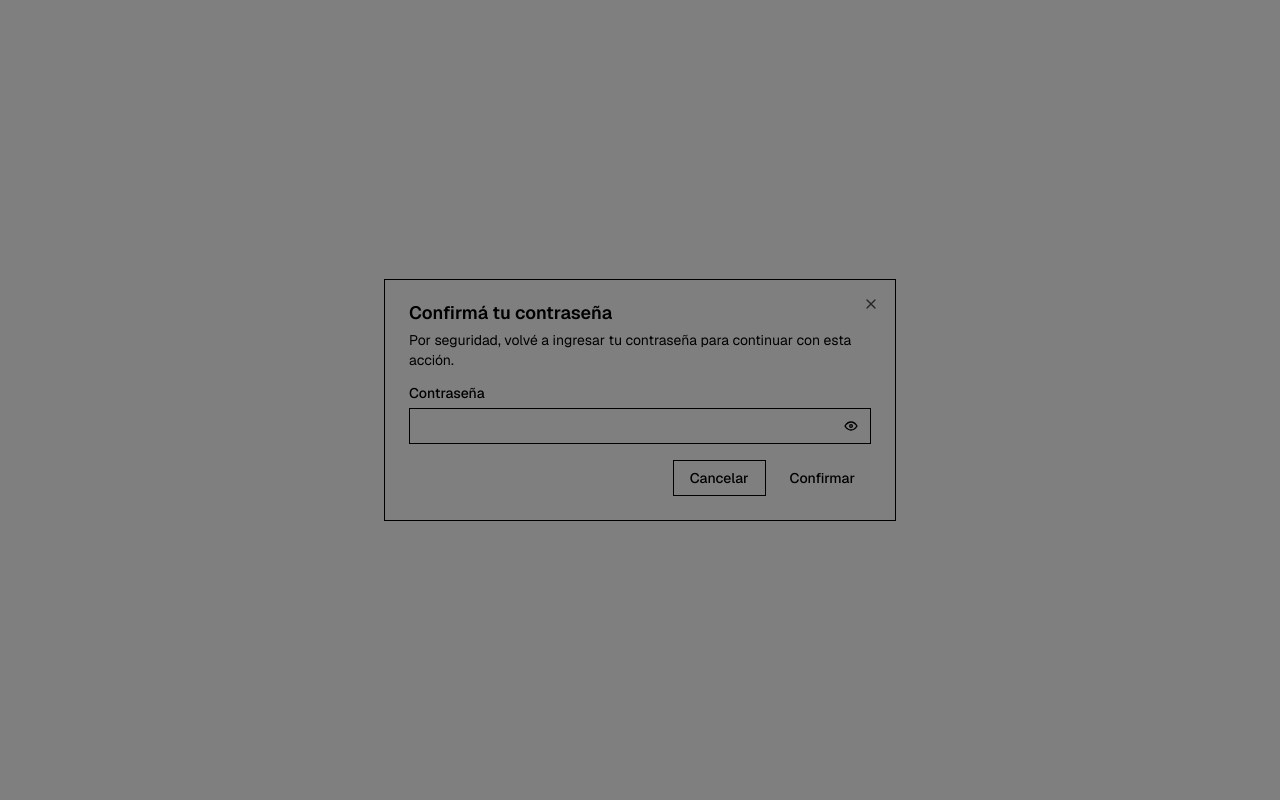
Test case: password visibility (#281) › reveals the step-up password and keeps what was typed
Type "secreto-123" into the password field labelled "Contraseña" at (640, 426), box [409,408,871,444]
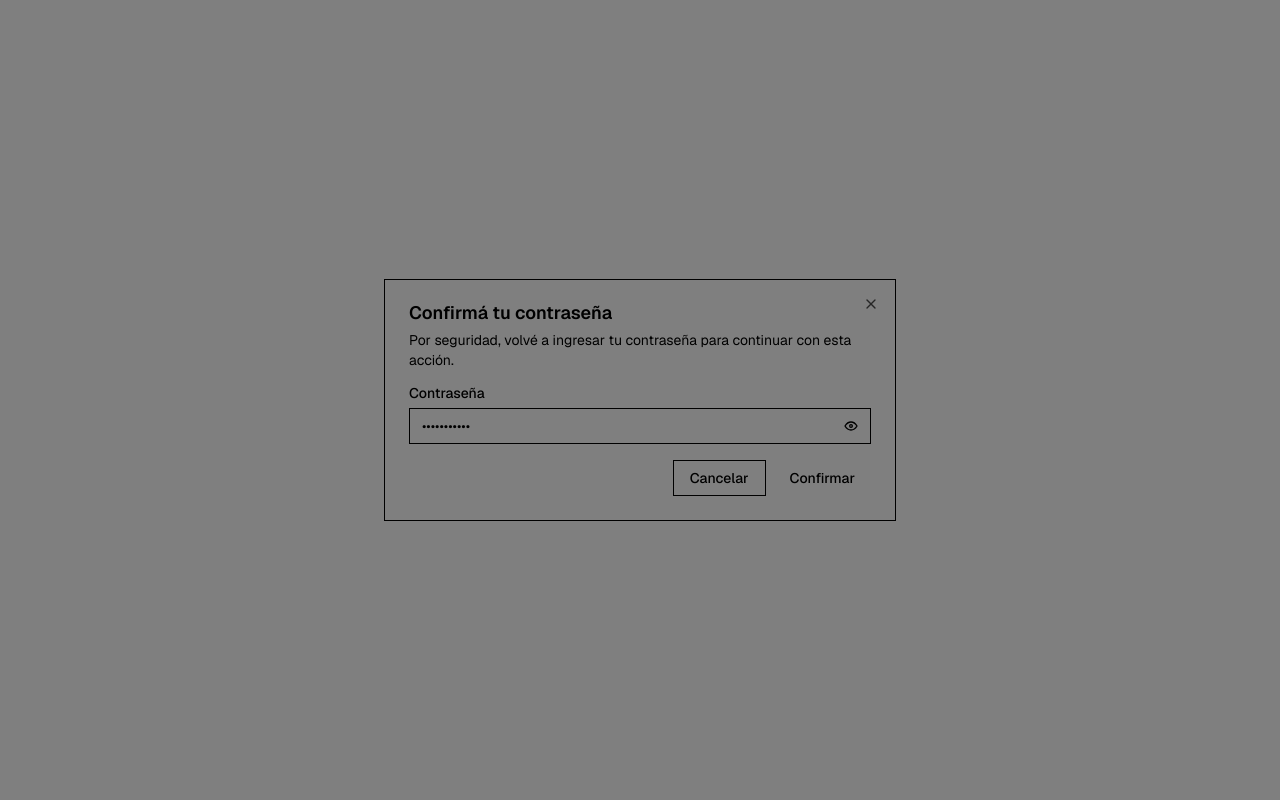
Click the button named "Mostrar contraseña" at (851, 426), box [843,418,859,434]
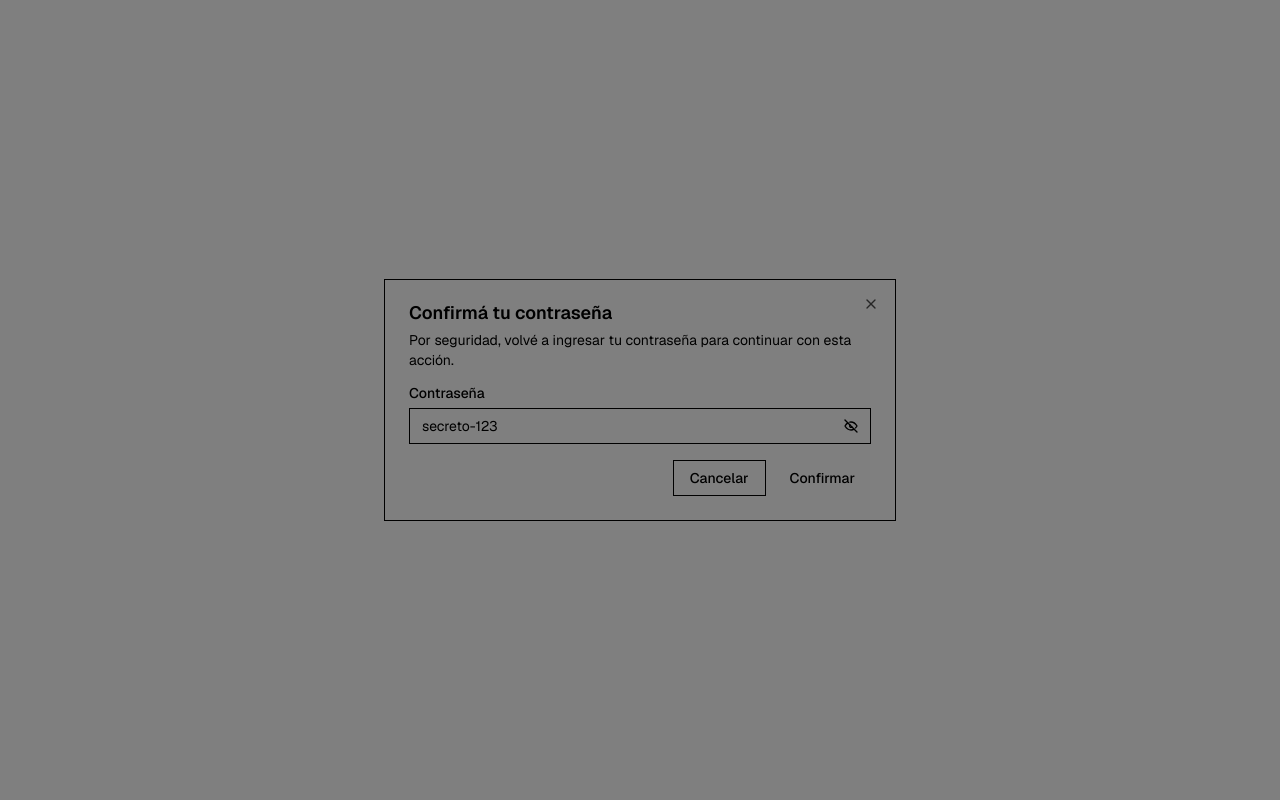
Check: the field labelled "Contraseña" shows its text, box [409,408,871,444]
